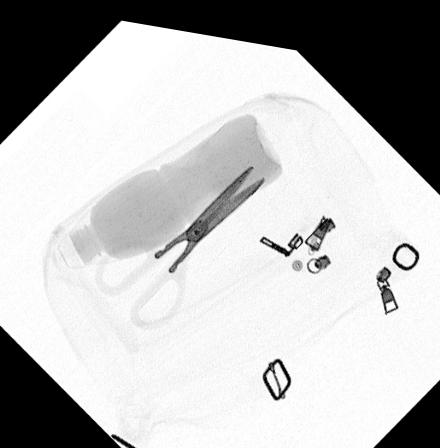Scissors: (89, 153, 263, 325)
